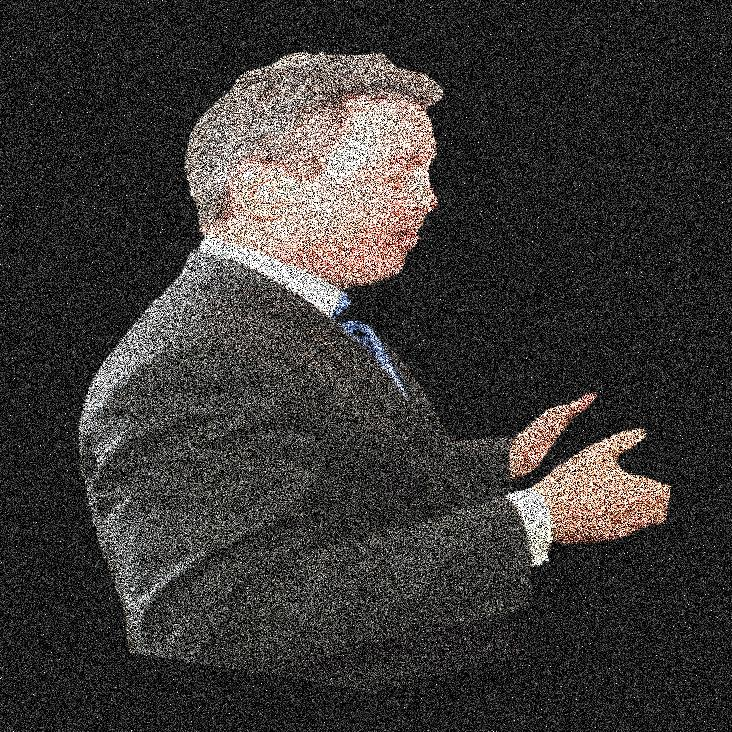Pessoa: (145, 0, 453, 731)
